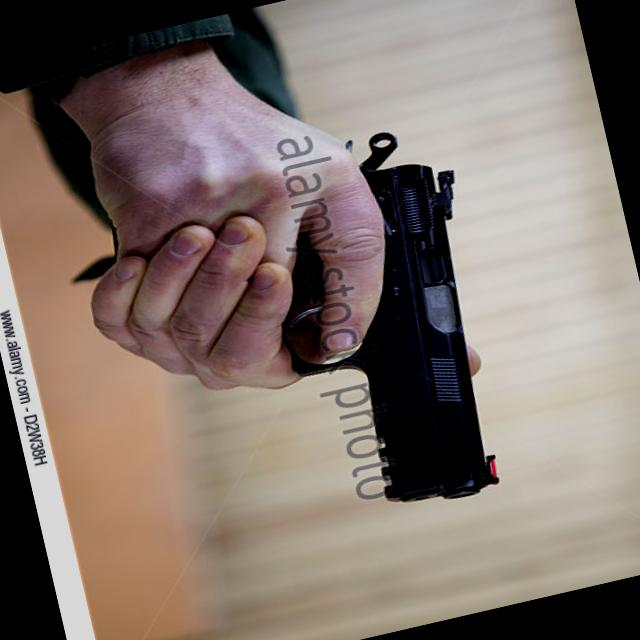handgun: (102, 131, 510, 566)
